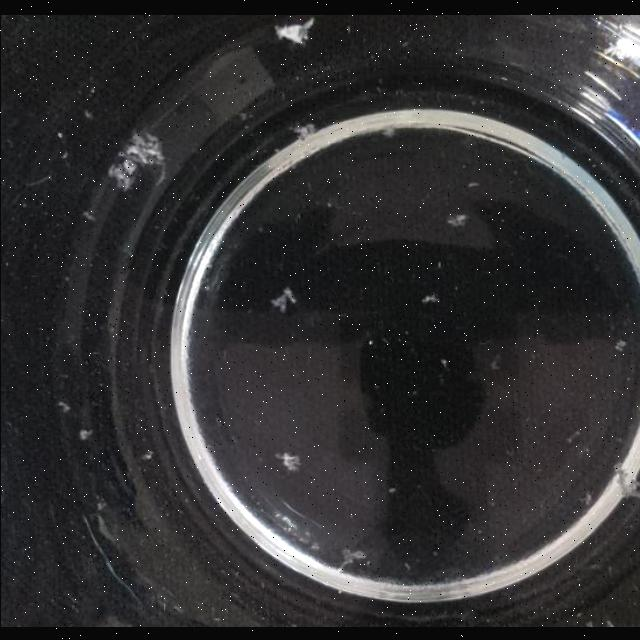Fibre: (108, 128, 164, 190), (612, 464, 640, 496), (270, 285, 296, 311), (290, 120, 316, 140), (276, 451, 300, 472), (444, 213, 466, 227), (421, 292, 439, 304), (580, 490, 592, 506), (614, 338, 626, 352), (82, 210, 96, 220)
microbeads: (274, 16, 314, 44), (338, 547, 367, 569), (56, 399, 70, 411), (95, 496, 107, 510), (488, 354, 500, 368), (78, 427, 90, 439), (140, 449, 152, 459), (440, 357, 448, 367), (403, 560, 411, 568), (388, 486, 396, 492), (56, 130, 62, 138), (368, 338, 374, 344), (476, 528, 482, 534), (436, 260, 440, 268)
